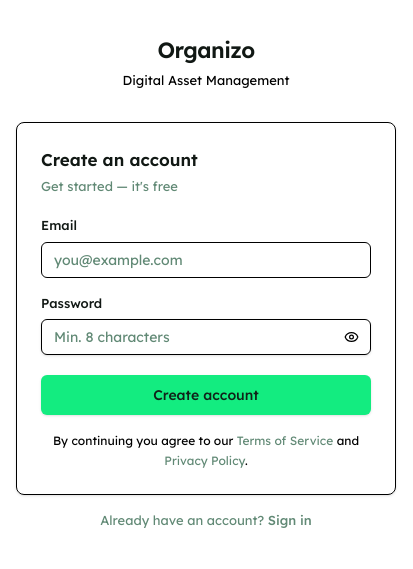
it: SignUpPage › validation › clears the email error as soon as the user starts typing
Click the button "Create account". click: [206, 395]
box: [41,375,371,415]
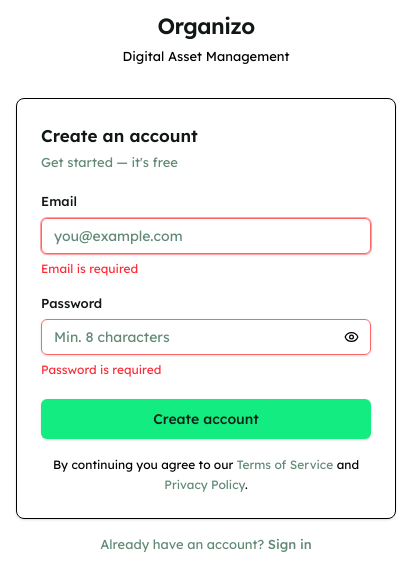
Check: the text "Email is required" is shown, box [41,260,138,276]
Type "a" into the field labelled "Email". click: [206, 236]
box: [41,218,371,254]
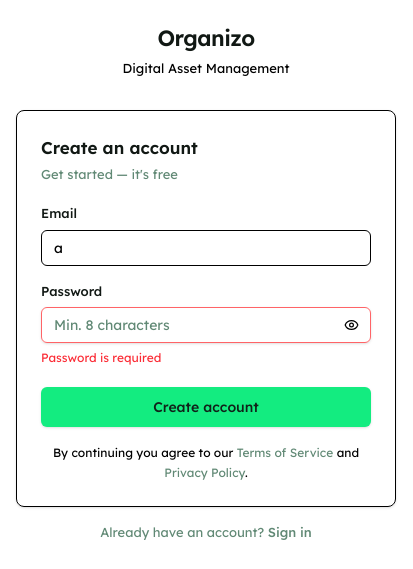
Check: the text "Email is required" is gone
